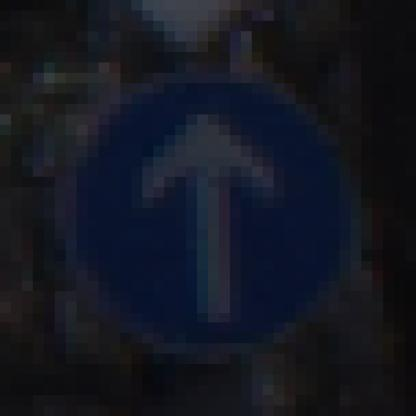AheadOnly: (56, 53, 362, 365)
